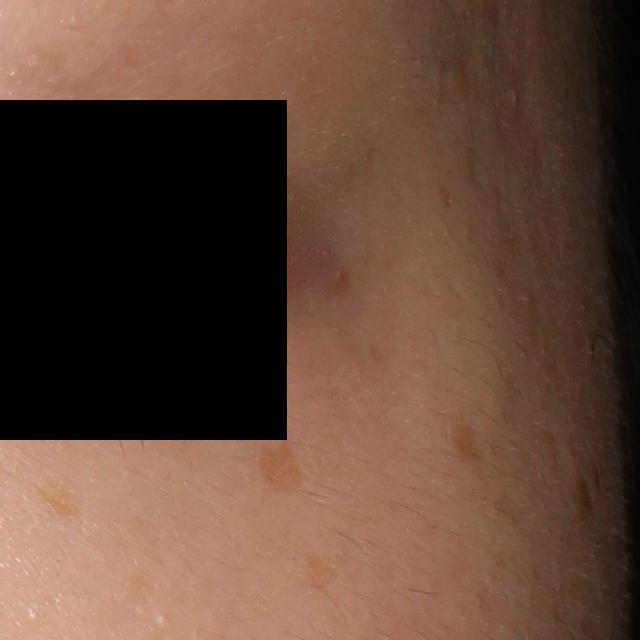melasma: (443, 401, 492, 486), (251, 439, 309, 495), (31, 478, 94, 523), (306, 553, 337, 592)
